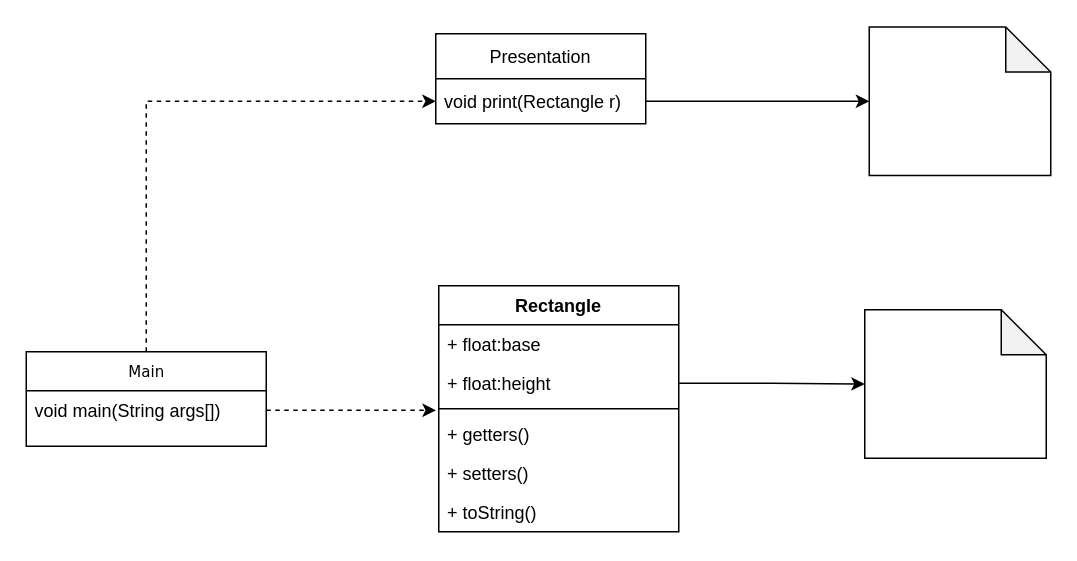
This 1077x561 diagram has some shape labels left out. The centre of each missing label's shape, as x and y in pixels:
Domain classes <Model Layer>: [954,383]
View classes <UI Layer>: [959,101]
